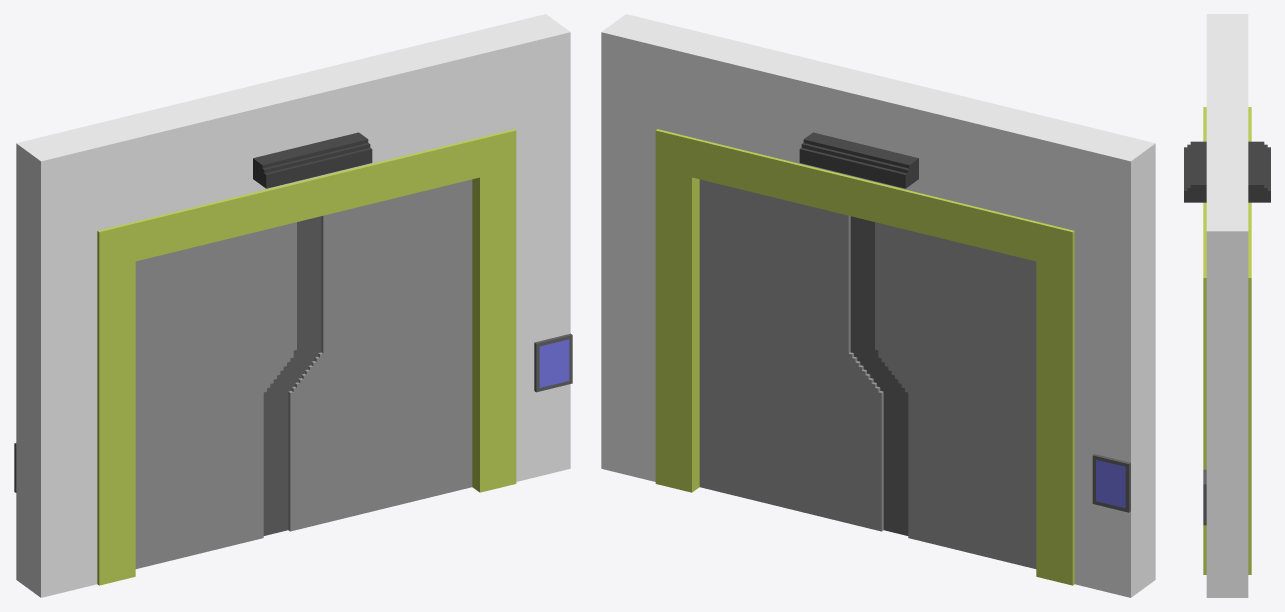
Rendered from Operating_room_Door3-1.fbx.
3 views of the same model, side by side, from view 1: azimuth 30°, elevation 25°; view 2: azimuth 150°, elevation 25°; view 3: azimuth 270°, elevation 25° (orthographic). The views are drawn at different scales.
Parts seen in each view (by area): view 1: Operating room Door3-1.003, Operating room Door3-1.008, Operating room Door3-1.002, Operating room Door3-1.001, Operating room Door3-1.009, Operating room Door3-1.014; view 2: Operating room Door3-1.003, Operating room Door3-1.008, Operating room Door3-1.002, Operating room Door3-1.001, Operating room Door3-1.009, Operating room Door3-1.007; view 3: Operating room Door3-1.009, Operating room Door3-1.003, Operating room Door3-1.001.
Boxes of the visible parts, x1=… form: Operating room Door3-1.003: x1=73, y1=28, x2=516, y2=585; Operating room Door3-1.008: x1=275, y1=179, x2=472, y2=533; Operating room Door3-1.002: x1=135, y1=219, x2=308, y2=568; Operating room Door3-1.001: x1=14, y1=129, x2=97, y2=597; Operating room Door3-1.009: x1=490, y1=14, x2=572, y2=481; Operating room Door3-1.014: x1=539, y1=339, x2=569, y2=387; Operating room Door3-1.003: x1=655, y1=28, x2=1098, y2=585; Operating room Door3-1.008: x1=699, y1=179, x2=896, y2=533; Operating room Door3-1.002: x1=863, y1=219, x2=1036, y2=568; Operating room Door3-1.001: x1=1074, y1=129, x2=1155, y2=597; Operating room Door3-1.009: x1=601, y1=14, x2=681, y2=481; Operating room Door3-1.007: x1=1096, y1=459, x2=1125, y2=508; Operating room Door3-1.009: x1=1203, y1=208, x2=1248, y2=597; Operating room Door3-1.003: x1=1184, y1=37, x2=1270, y2=574; Operating room Door3-1.001: x1=1206, y1=14, x2=1248, y2=36.
Bounding box in the file's own units: 1600 × 1260 × 270.
